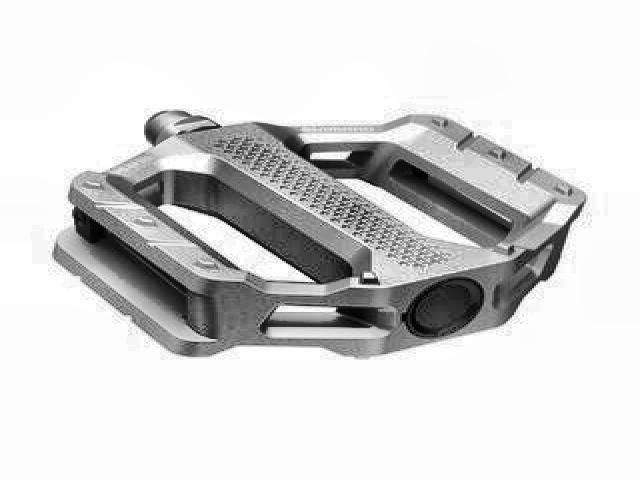pedal: (49, 108, 593, 362)
